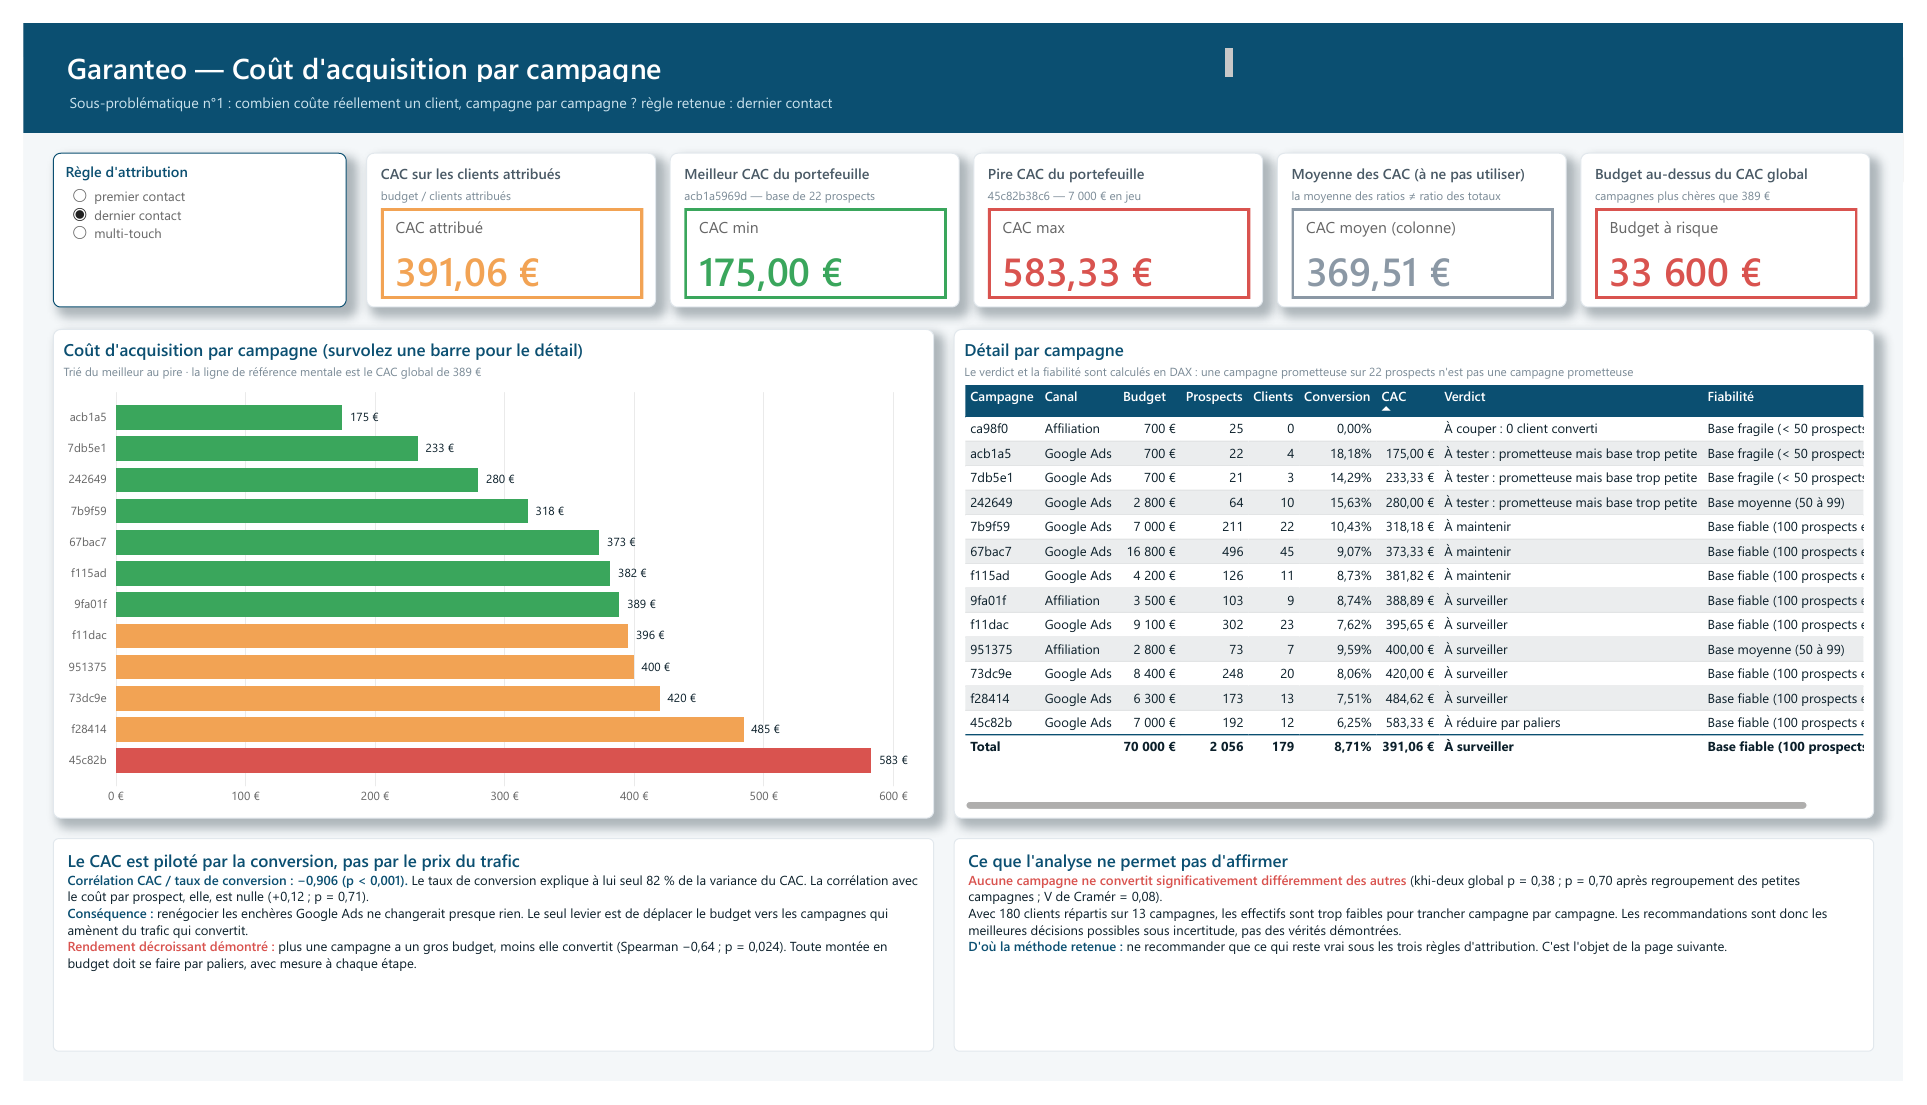

The page's visual inventory and layout, read from the dashboard file:
{"tool":"powerbi","page":{"name":"2 · Coût d'acquisition","canvas":[1920,1080],"ordinal":1},"visuals":[{"type":"shape","box":[0,0,1920,112],"z":0},{"type":"slicer","title":"Règle d'attribution","fields":{"Values":["D_Attribution.regle_attribution"]},"box":[30,132,300,158],"z":1000},{"type":"cardVisual","title":"CAC sur les clients attribués","fields":{"Data":["_Mesures.CAC attribué"]},"box":[350,132,296,158],"z":2000},{"type":"cardVisual","title":"Meilleur CAC du portefeuille","fields":{"Data":["_Mesures.CAC min"]},"box":[660,132,296,158],"z":3000},{"type":"cardVisual","title":"Pire CAC du portefeuille","fields":{"Data":["_Mesures.CAC max"]},"box":[970,132,296,158],"z":4000},{"type":"cardVisual","title":"Moyenne des CAC (à ne pas utiliser)","fields":{"Data":["_Mesures.CAC moyen (colonne)"]},"box":[1280,132,296,158],"z":5000},{"type":"cardVisual","title":"Budget au-dessus du CAC global","fields":{"Data":["_Mesures.Budget à risque"]},"box":[1590,132,296,158],"z":6000},{"type":"clusteredBarChart","title":"Coût d'acquisition par campagne (survolez une barre pour le détail)","fields":{"Category":["D_Campagne.Code court"],"Y":["_Mesures.CAC attribué"]},"box":[30,312,900,500],"z":7000},{"type":"tableEx","title":"Détail par campagne","fields":{"Values":["D_Campagne.Code court","D_Campagne.Canal","Sum(D_Campagne.total_cost)","_Mesures.Prospects attribués","_Mesures.Clients attribués","_Mesures.Taux conversion campagne","_Mesures.CAC attribué","_Mesures.Verdict combiné","_Mesures.Fiabilité de l'estimation"]},"box":[949.6,312.5,939.9,499.2],"z":8000},{"type":"textbox","box":[30,832,900,218],"z":9000},{"type":"textbox","box":[950,832,940,218],"z":10000},{"type":"textbox","box":[40,20,1200,44],"z":11000},{"type":"textbox","box":[42,66,1400,30],"z":12000}]}

Visuals, with their boxes in screenshot pixels (x1, y1, x2, y2), scaled from the page's 1920x1080 canvas onto the 1927x1105 screenshot:
shape: (left=0, top=0, right=1926, bottom=115)
"Règle d'attribution" slicer: (left=30, top=135, right=331, bottom=297)
"CAC sur les clients attribués" cardVisual: (left=351, top=135, right=648, bottom=297)
"Meilleur CAC du portefeuille" cardVisual: (left=662, top=135, right=959, bottom=297)
"Pire CAC du portefeuille" cardVisual: (left=974, top=135, right=1271, bottom=297)
"Moyenne des CAC (à ne pas utiliser)" cardVisual: (left=1285, top=135, right=1582, bottom=297)
"Budget au-dessus du CAC global" cardVisual: (left=1596, top=135, right=1893, bottom=297)
"Coût d'acquisition par campagne (survolez une barre pour le détail)" clusteredBarChart: (left=30, top=319, right=933, bottom=831)
"Détail par campagne" tableEx: (left=953, top=320, right=1896, bottom=830)
textbox: (left=30, top=851, right=933, bottom=1074)
textbox: (left=953, top=851, right=1897, bottom=1074)
textbox: (left=40, top=20, right=1245, bottom=65)
textbox: (left=42, top=68, right=1447, bottom=98)
